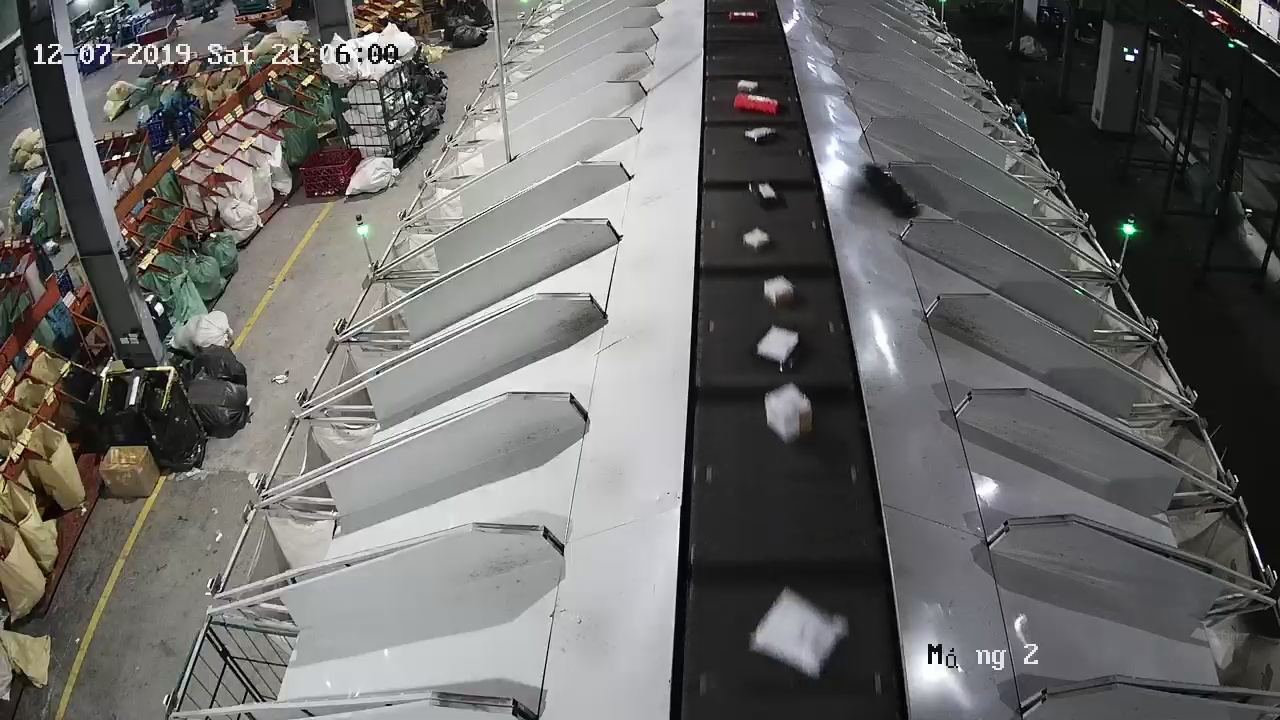parcel: (860, 161, 921, 218)
